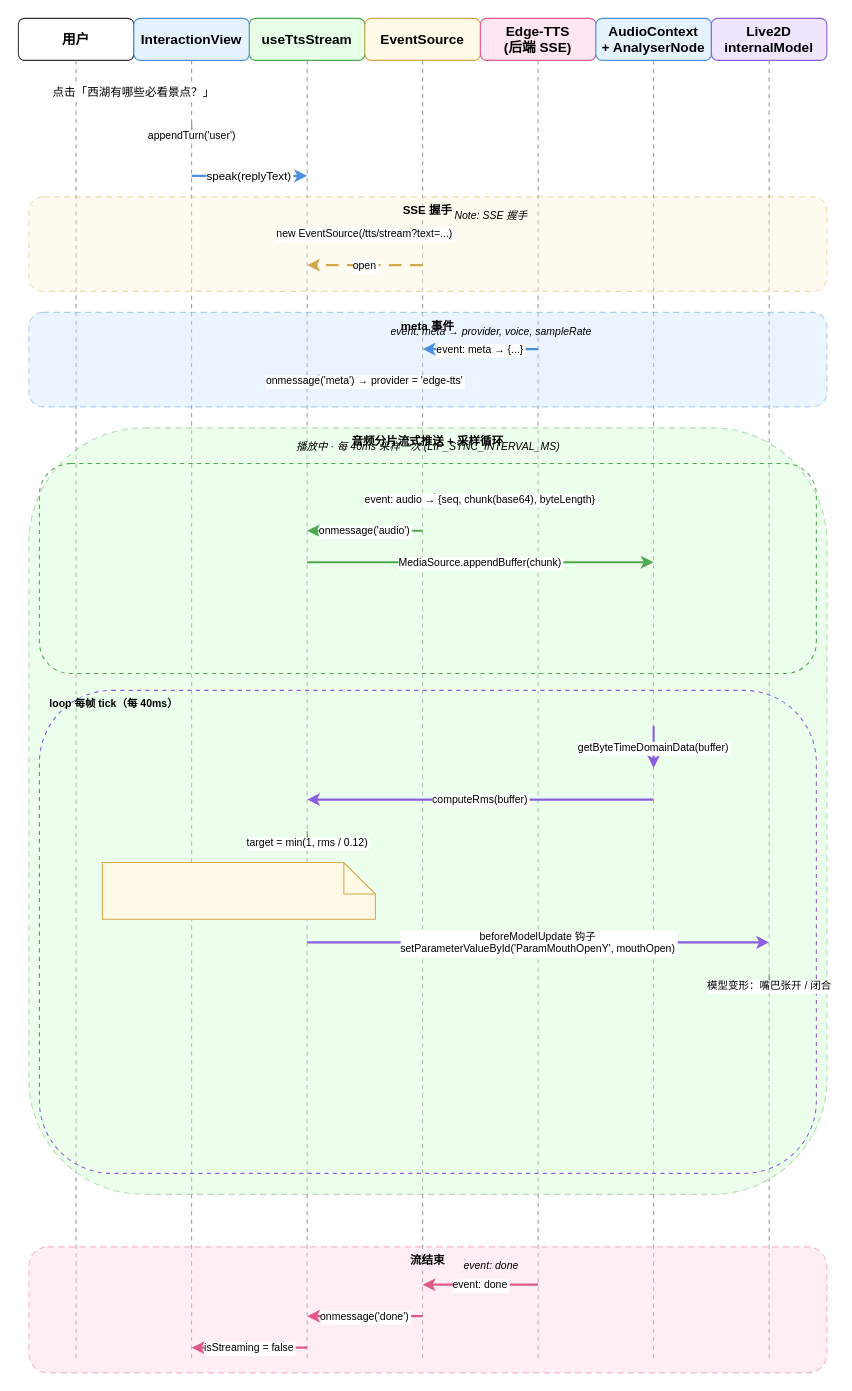
This 852x1391 diagram has some shape labels left out. The centre of each missing label's shape, as x and y in pixels:
loop 每个音频分片: pixel 427 568
mouthOpen += (target - mouthOpen) × coeff attack=0.5 张嘴快 / release=0.18 闭嘴慢: pixel 238 890
